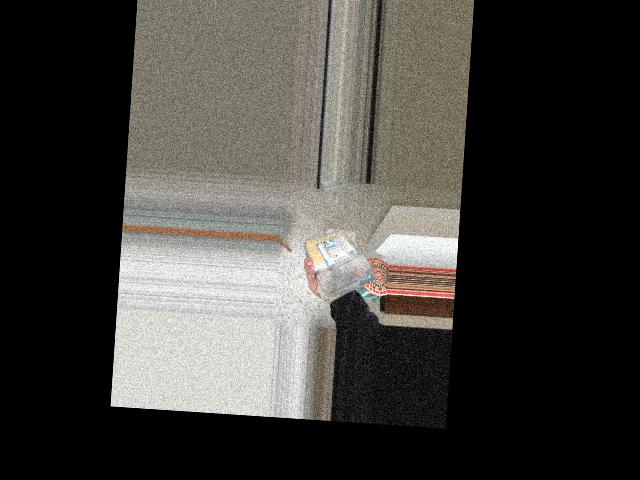cheese: (310, 222, 380, 301)
